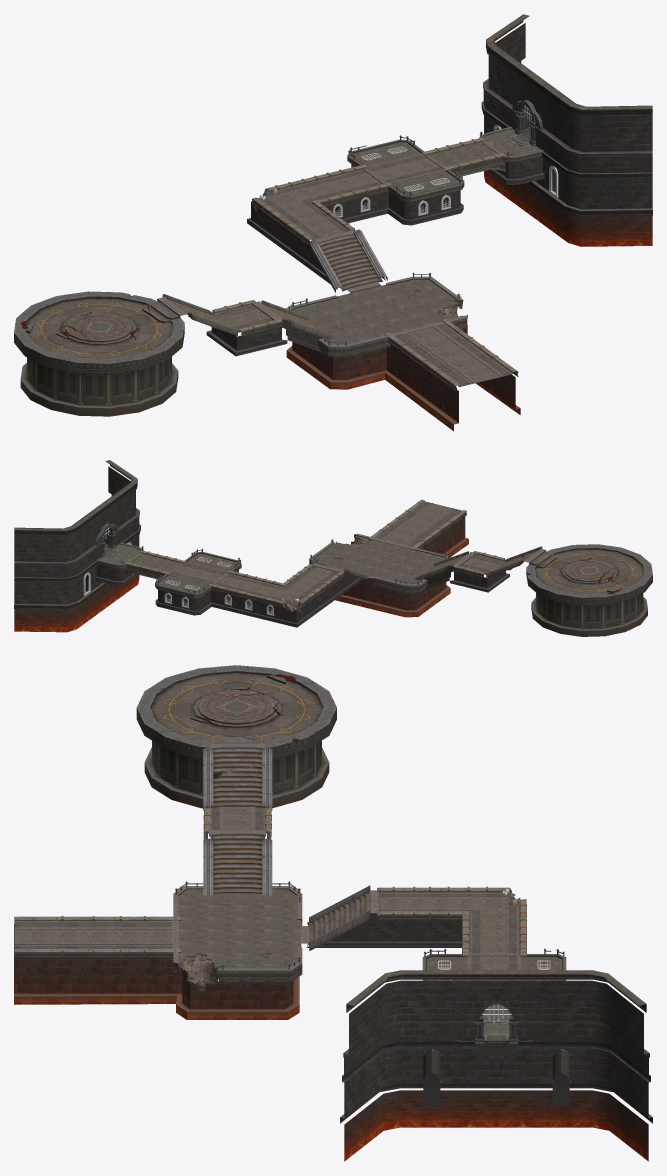
Rendered from floor_group.FBX.
The picture shows the model from 3 angles, top to bottom: view 1: azimuth 30°, elevation 25°; view 2: azimuth 150°, elevation 25°; view 3: azimuth 270°, elevation 25°; orthographic projection. The views are drawn at different scales.
Parts seen in each view (by area): view 1: qiang01, s_taizi, s_floor04, taizi2, qiang02, qiang05, s_floor03 (×2), s_floor05, s_lan01, s_floor02, s_louti002, s_lan (+9 smaller); view 2: qiang01, s_taizi, qiang02, taizi2, s_floor04, s_floor03 (×2), qiang05, s_floor05, s_lan01, s_floor02, s_lan, dilan (+9 smaller); view 3: qiang01, s_taizi, s_floor04, qiang05, s_floor03 (×2), taizi2, s_floor05, s_louti01, qiang02, dilan, s_lan, s_lan01 (+4 smaller).
Boxes of the visible parts, x1=… form: qiang01: x1=481, y1=14, x2=652, y2=246; s_taizi: x1=14, y1=291, x2=184, y2=373; s_floor04: x1=292, y1=279, x2=467, y2=344; taizi2: x1=20, y1=357, x2=178, y2=416; qiang02: x1=247, y1=156, x2=544, y2=284; qiang05: x1=292, y1=324, x2=515, y2=422; s_floor03 (×2): x1=212, y1=168, x2=382, y2=332; s_floor05: x1=395, y1=324, x2=514, y2=386; s_lan01: x1=212, y1=137, x2=506, y2=336; s_floor02: x1=352, y1=142, x2=459, y2=194; s_louti002: x1=309, y1=229, x2=387, y2=292; s_lan: x1=157, y1=230, x2=467, y2=356; qiang01: x1=14, y1=460, x2=140, y2=632; s_taizi: x1=526, y1=544, x2=652, y2=605; qiang02: x1=95, y1=564, x2=363, y2=627; taizi2: x1=531, y1=593, x2=647, y2=636; s_floor04: x1=314, y1=536, x2=445, y2=583; s_floor03 (×2): x1=214, y1=554, x2=505, y2=611; qiang05: x1=342, y1=516, x2=465, y2=610; s_floor05: x1=375, y1=501, x2=461, y2=546; s_lan01: x1=124, y1=550, x2=505, y2=607; s_floor02: x1=158, y1=554, x2=237, y2=592; s_lan: x1=309, y1=533, x2=546, y2=592; dilan: x1=335, y1=538, x2=468, y2=617; qiang01: x1=340, y1=970, x2=652, y2=1161; s_taizi: x1=136, y1=665, x2=336, y2=758; s_floor04: x1=178, y1=889, x2=301, y2=990; qiang05: x1=14, y1=924, x2=293, y2=1009; s_floor03 (×2): x1=205, y1=806, x2=520, y2=955; taizi2: x1=144, y1=740, x2=329, y2=808; s_floor05: x1=14, y1=921, x2=171, y2=948; s_louti01: x1=203, y1=835, x2=272, y2=896; qiang02: x1=306, y1=898, x2=520, y2=1048; dilan: x1=14, y1=976, x2=299, y2=1019; s_lan: x1=172, y1=743, x2=379, y2=982; s_lan01: x1=204, y1=808, x2=526, y2=957.
Bounding box in the file's own units: 13268 × 2546 × 9315.
